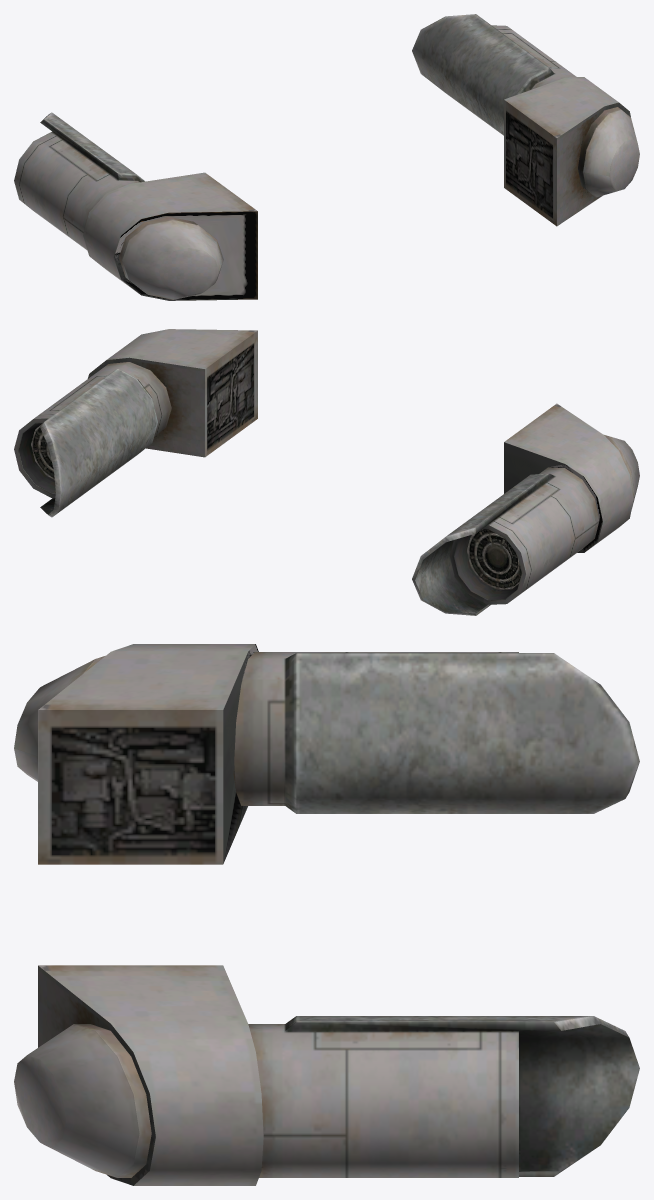
Rendered from hutt_fighter_heavy_booster_s01_l0.fbx.
The picture shows the model from 3 angles, top to bottom: view 1: azimuth 30°, elevation 25°; view 2: azimuth 150°, elevation 25°; view 3: azimuth 270°, elevation 25°; orthographic projection. The views are drawn at different scales.
Parts seen in each view (by area): view 1: mesh_node; view 2: mesh_node; view 3: mesh_node.
Part boxes in pixels (bbox=[...]): mesh_node: bbox=[14, 14, 639, 300]; mesh_node: bbox=[14, 329, 639, 615]; mesh_node: bbox=[14, 644, 639, 1185].
Bounding box in the file's own units: 9.4 × 1.53 × 5.6.
